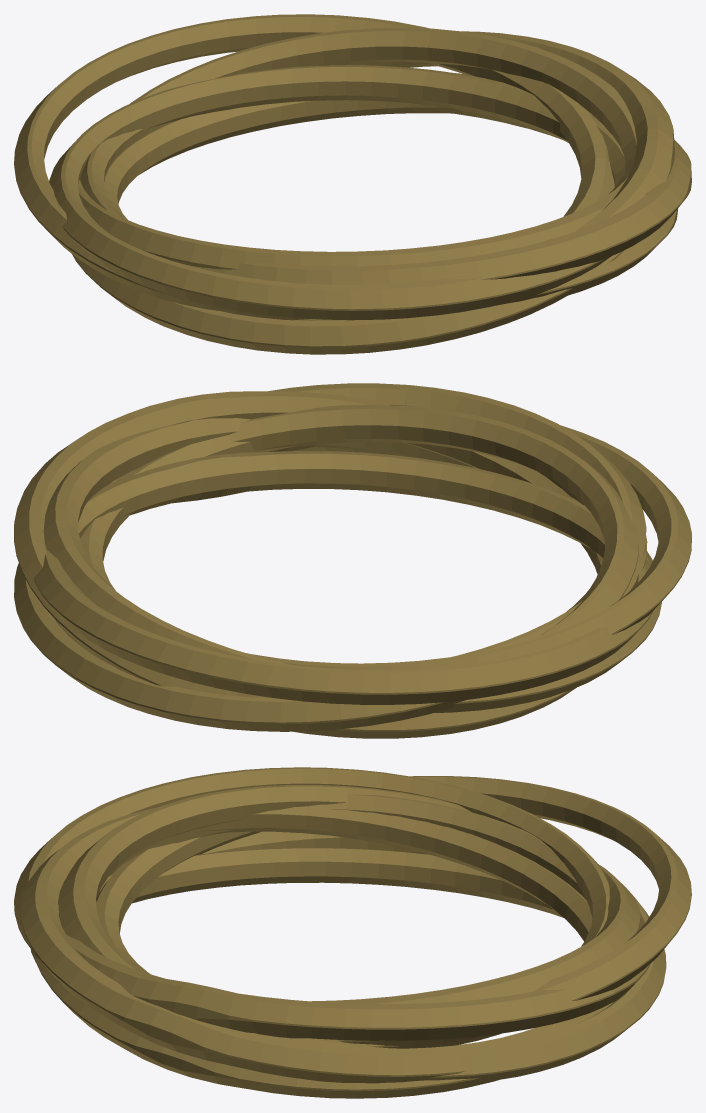
File: Twine.fbx
3 views of the same model, one above another, from view 1: azimuth 30°, elevation 25°; view 2: azimuth 150°, elevation 25°; view 3: azimuth 270°, elevation 25° (orthographic). The views are drawn at different scales.
Visible parts, largest first — view 1: Circle.001; view 2: Circle.001; view 3: Circle.001.
Part boxes in pixels (x1,y1,x2,y2): Circle.001: (14,14,691,354); Circle.001: (14,383,691,738); Circle.001: (14,767,691,1098).
Bounding box in the file's own units: 601 × 117 × 617.
